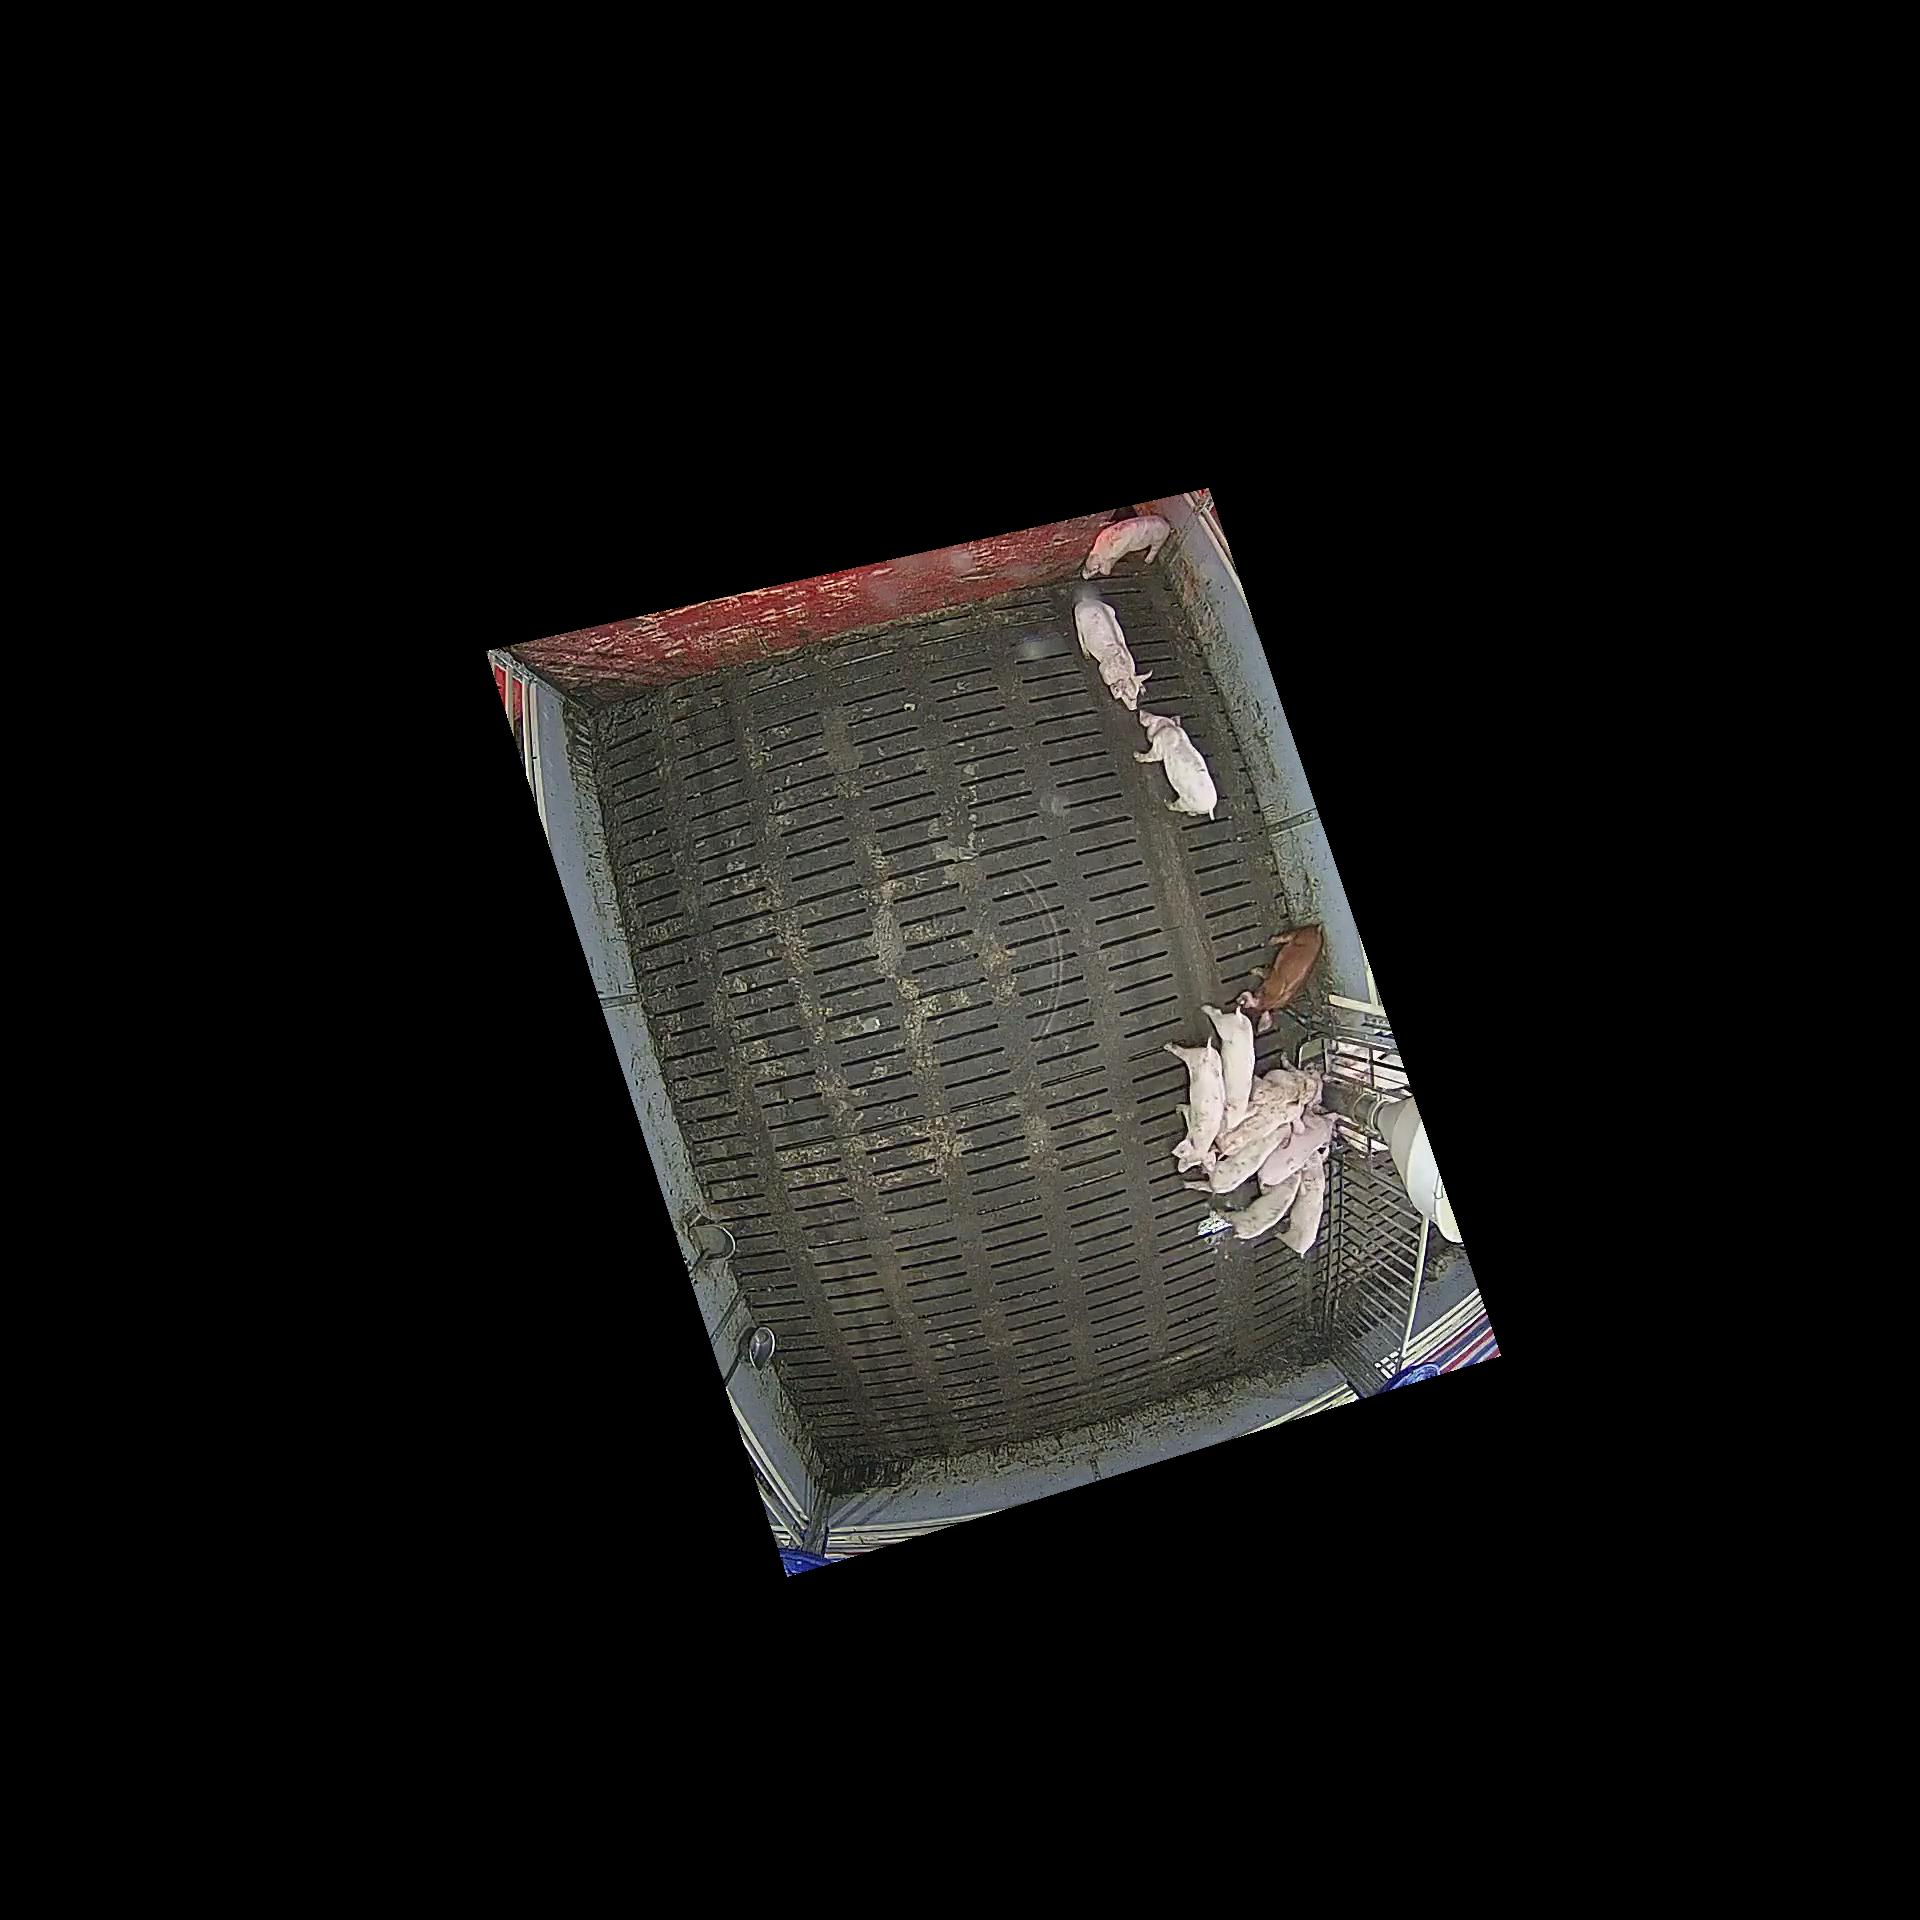pig: (1238, 925, 1322, 1032), (1134, 710, 1217, 819), (1074, 600, 1152, 710), (1164, 1037, 1225, 1173), (1183, 1124, 1292, 1194), (1201, 1004, 1257, 1129), (1275, 1146, 1329, 1259), (1259, 1113, 1340, 1189), (1217, 1171, 1305, 1240), (1083, 515, 1171, 578), (1215, 1104, 1305, 1160), (1250, 1053, 1322, 1104)
